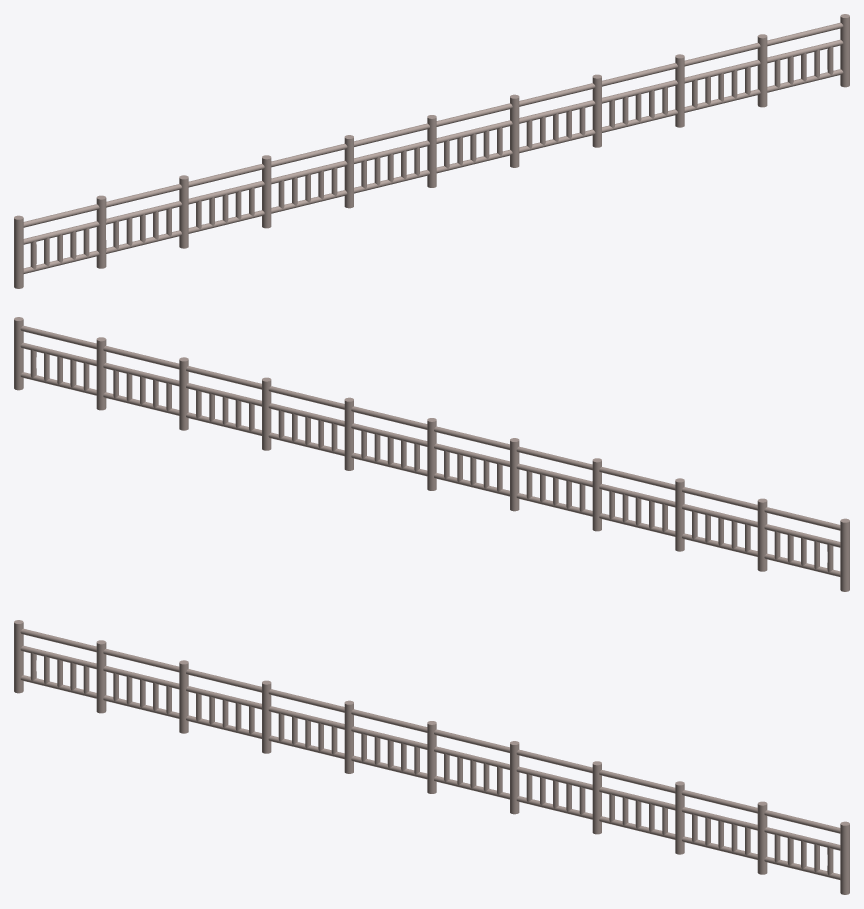
File: 1031_fence_10.glb
3 renders of one model, top to bottom at view 1: azimuth 30°, elevation 25°; view 2: azimuth 150°, elevation 25°; view 3: azimuth 330°, elevation 25°, orthographic.
Visible parts, largest first — view 1: Body; view 2: Body; view 3: Body.
Part boxes in pixels (left/top/right/bottom): Body: left=14, top=14, right=849, bottom=288; Body: left=14, top=317, right=849, bottom=591; Body: left=14, top=620, right=849, bottom=894.
Bounding box in the file's own units: 15.15 × 1.2 × 0.15.
